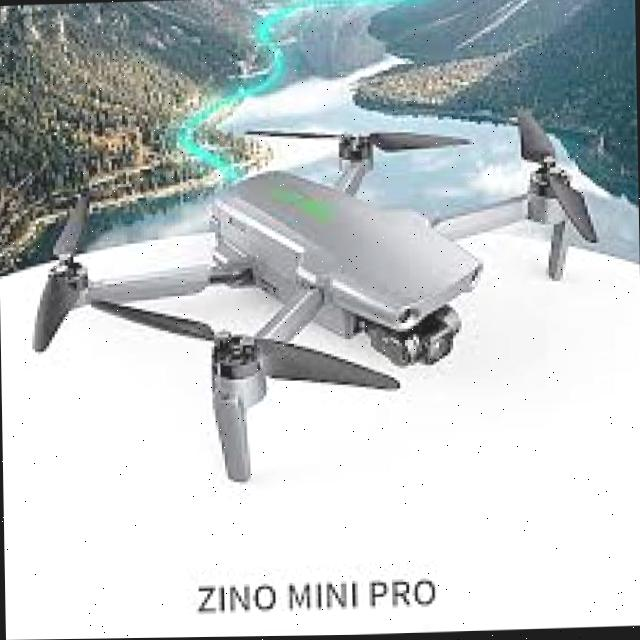drone: (21, 101, 615, 491)
